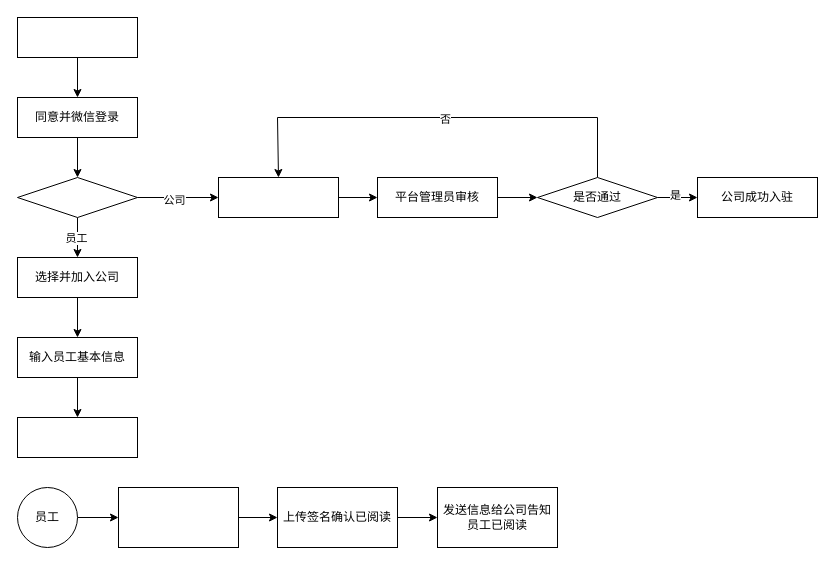
The diagram is 835 pixels wide and 565 high, and some of its shapes have lost their labels. Here are the shapes that lost their labels. From the top down, the centre of each, then its label:
At pixel 77 37: "搜索进入小程序".
At pixel 77 197: "选择身份".
At pixel 278 197: "输入公司基本信息".
At pixel 77 437: "成功加入公司".
At pixel 178 517: "阅读公司规章制度或培训内容".
